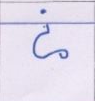anusvara: (40, 9, 46, 14)
